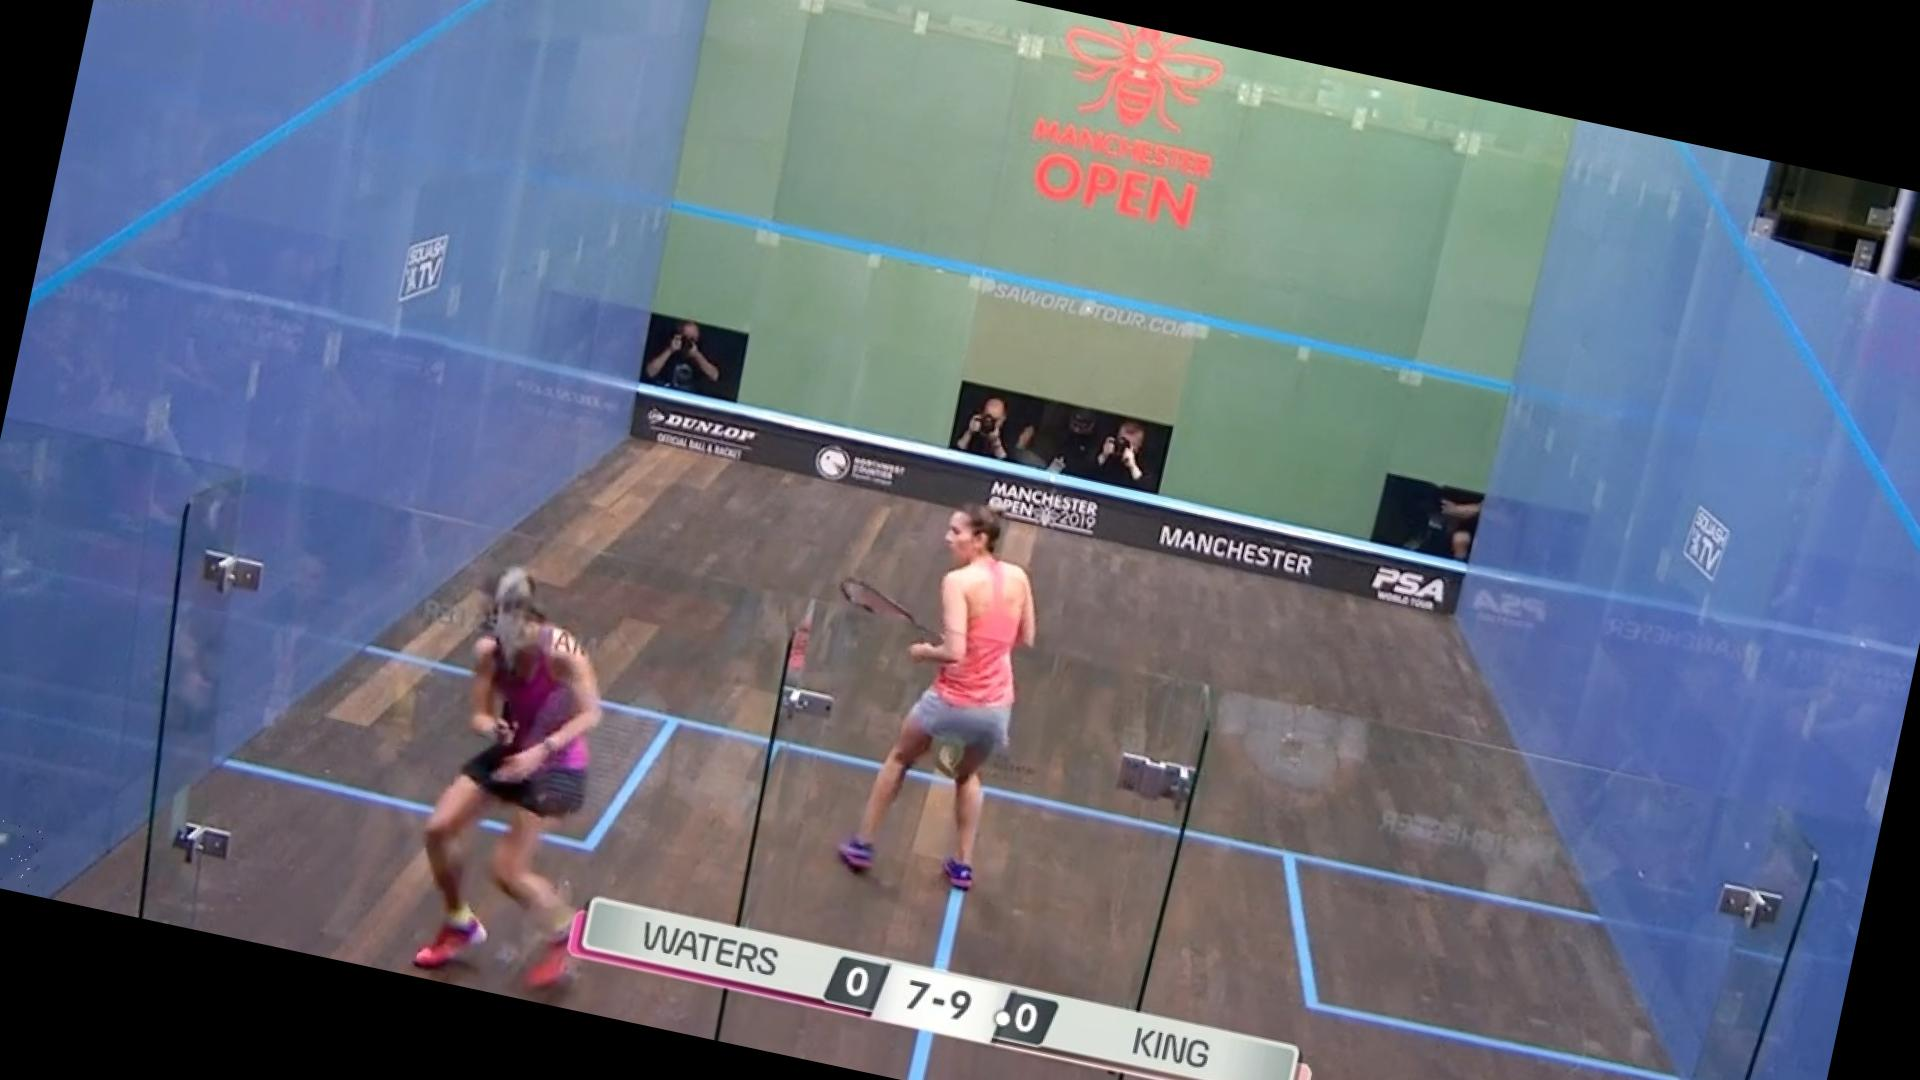Squash-Ball: (0, 810, 49, 891)
